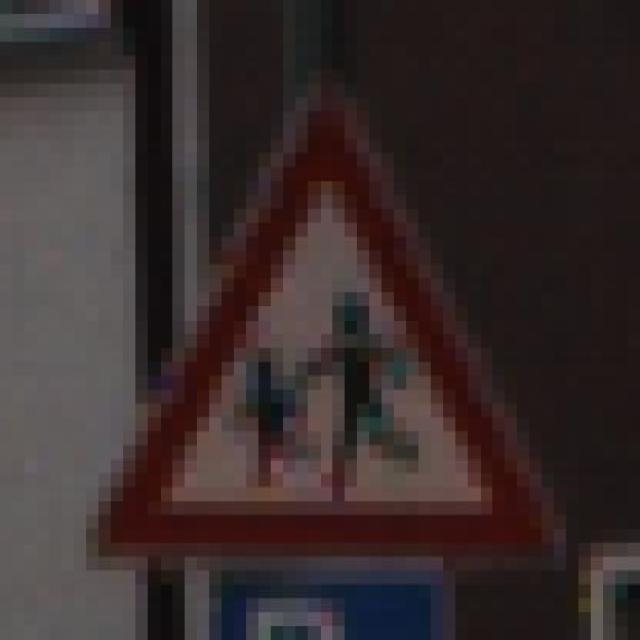Beware of children: (76, 66, 569, 582)
